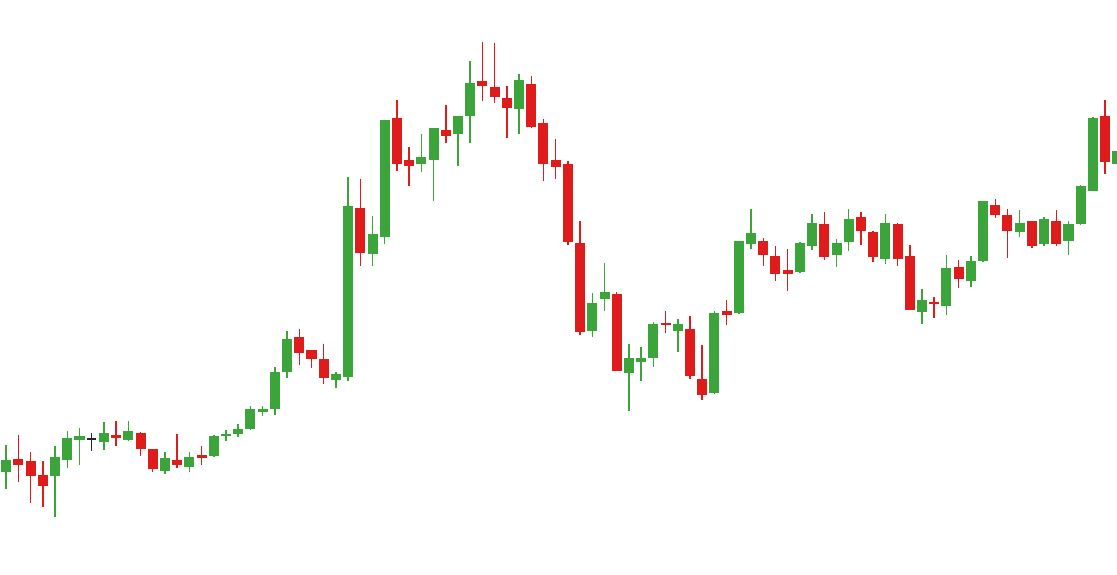buy: (783, 236, 952, 328)
